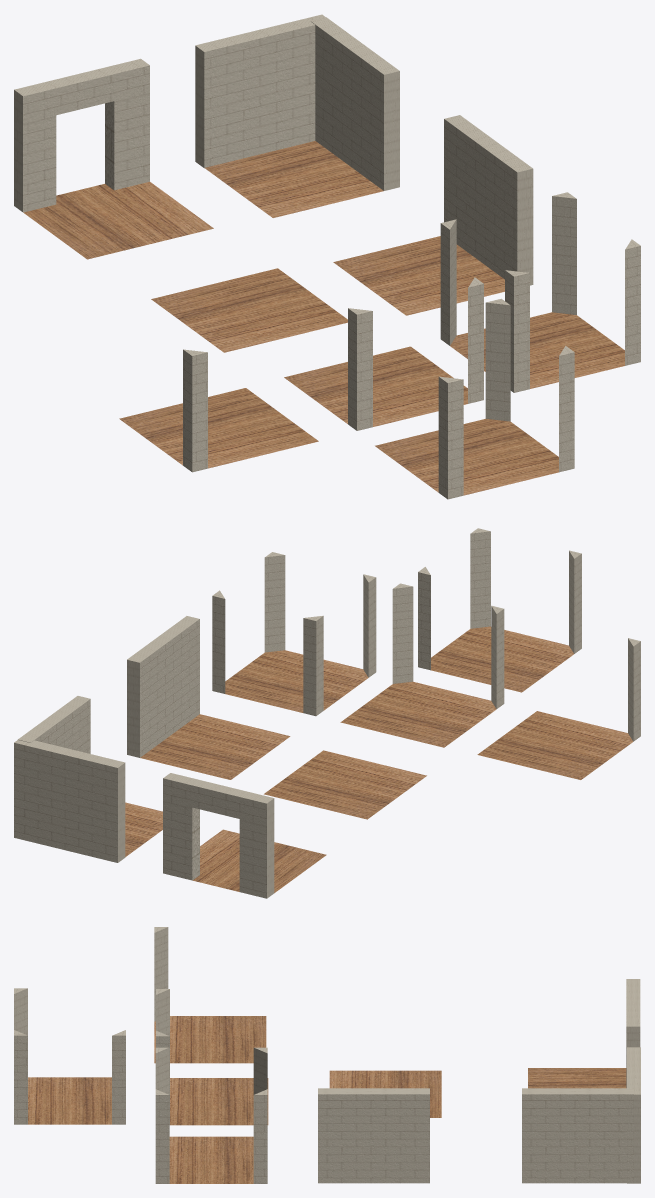
Rendered from walls_for_game.dae.
The picture shows the model from 3 angles, top to bottom: view 1: azimuth 30°, elevation 25°; view 2: azimuth 150°, elevation 25°; view 3: azimuth 270°, elevation 25°; orthographic projection. The views are drawn at different scales.
Visible parts, largest first — view 1: Cube.000, Cube.001, Cube.003, Cube.002, Plane.001, Plane.003, Plane.002, Plane.006, Plane.007, Plane, Plane.005, Plane.004 (+10 smaller); view 2: Cube.000, Cube.001, Cube.003, Plane.001, Plane.006, Plane.005, Plane, Plane.007, Plane.004, Plane.003, Cube.002, Cube.005 (+10 smaller); view 3: Cube.003, Cube.002, Plane.006, Plane.005, Plane.004, Plane.007, Plane.001, Plane.003, Cube.000, Cube.005, Cube.004, Cube.012 (+7 smaller).
Boxes of the visible parts, <box> form: Cube.000: <box>195,14,325,168</box>; Cube.001: <box>14,58,149,212</box>; Cube.003: <box>444,115,533,285</box>; Cube.002: <box>311,17,399,190</box>; Plane.001: <box>151,268,347,352</box>; Plane.003: <box>23,181,213,259</box>; Plane.002: <box>205,141,383,217</box>; Plane.006: <box>119,388,318,468</box>; Plane.007: <box>375,418,558,495</box>; Plane: <box>333,236,504,315</box>; Plane.005: <box>284,346,467,426</box>; Plane.004: <box>450,312,624,388</box>; Cube.000: <box>14,740,125,862</box>; Cube.001: <box>163,773,274,898</box>; Cube.003: <box>127,616,199,757</box>; Plane.001: <box>264,750,426,819</box>; Plane.006: <box>477,711,633,779</box>; Plane.005: <box>340,681,496,747</box>; Plane: <box>140,714,290,779</box>; Plane.007: <box>431,626,573,692</box>; Plane.004: <box>225,650,368,712</box>; Plane.003: <box>193,829,326,892</box>; Cube.002: <box>18,696,90,753</box>; Cube.005: <box>264,552,285,652</box>; Cube.003: <box>318,1088,429,1183</box>; Cube.002: <box>522,1088,633,1183</box>; Plane.006: <box>154,1016,266,1063</box>; Plane.005: <box>170,1078,268,1125</box>; Plane.004: <box>169,1136,253,1183</box>; Plane.007: <box>28,1077,111,1124</box>; Plane.001: <box>329,1070,441,1117</box>; Plane.003: <box>528,1068,626,1088</box>; Cube.000: <box>627,1047,640,1183</box>; Cube.005: <box>155,1089,169,1183</box>; Cube.004: <box>253,1089,267,1183</box>; Cube.012: <box>14,1030,27,1124</box>.
Bounding box in the file's own units: 28.33 × 44.73 × 7.03.
Materials: 3 (3 with a texture image).
